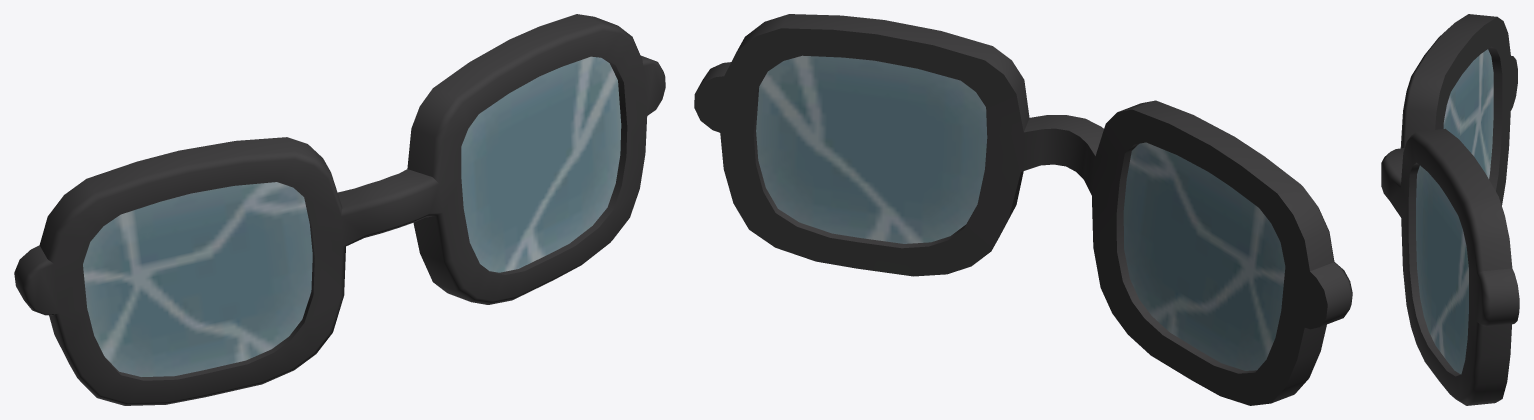
File: AccessoryGlassCrackBlack.glb
3 views of the same model, side by side, from view 1: azimuth 30°, elevation 25°; view 2: azimuth 150°, elevation 25°; view 3: azimuth 270°, elevation 25° (orthographic). The views are drawn at different scales.
Parts seen in each view (by area): view 1: Accessory__mAccessory; view 2: Accessory__mAccessory; view 3: Accessory__mAccessory.
Part boxes in pixels (bbox=[...]): Accessory__mAccessory: bbox=[14, 14, 665, 405]; Accessory__mAccessory: bbox=[694, 14, 1352, 405]; Accessory__mAccessory: bbox=[1381, 14, 1519, 405].
Bounding box in the file's own units: 5.88 × 2.38 × 1.19.
Materials: 1 (1 with a texture image).
